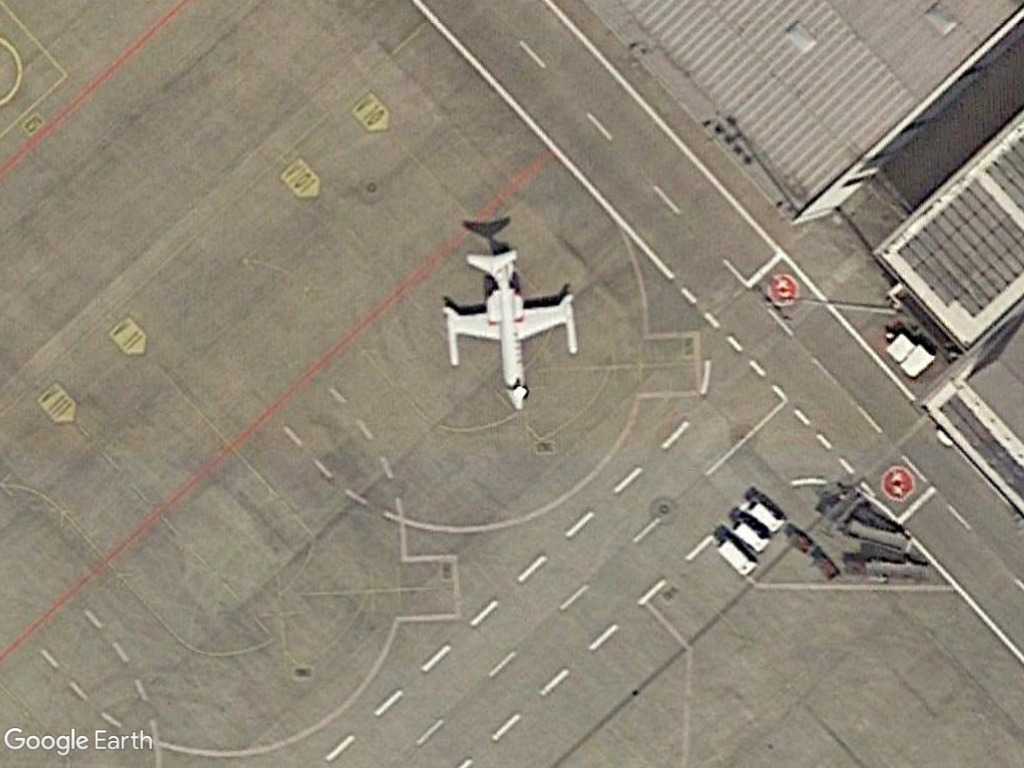chartered: (432, 231, 594, 434)
